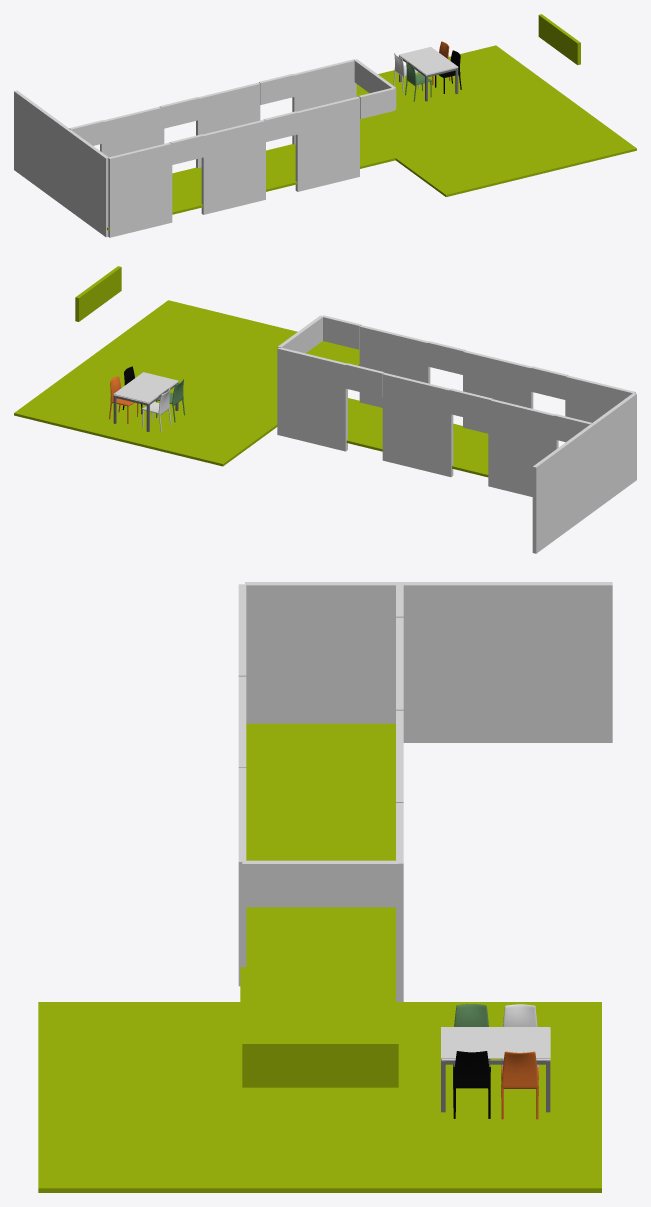
Rendered from chao.fbx.
The picture shows the model from 3 angles, top to bottom: view 1: azimuth 30°, elevation 25°; view 2: azimuth 150°, elevation 25°; view 3: azimuth 270°, elevation 25°; orthographic projection. The views are drawn at different scales.
Parts seen in each view (by area): view 1: Cube.001, Cube.002, Cube.007, Cube.008, Cube.009, Cube.016, Cube.005, Cube.006, Cube.004, Cube.003, mesa-vidrio, Cube.010 (+7 smaller); view 2: Cube.001, Cube.002, Cube.005, Cube.006, Cube.004, Cube.009, Cube.008, Cube.016, Cube.007, Cube.003, Cube.013, mesa-vidrio (+6 smaller); view 3: Cube.001, Cube.002, Cube.016, Cube.018, Cube.003, mesa-vidrio, Cube.006, Cube.019, Cube.020, Cube.009.
Boxes of the visible parts, <box> form: Cube.001: <box>356,45,636,196</box>; Cube.002: <box>14,90,108,237</box>; Cube.007: <box>108,142,172,237</box>; Cube.008: <box>201,119,265,214</box>; Cube.009: <box>295,96,359,191</box>; Cube.016: <box>107,132,395,230</box>; Cube.005: <box>196,82,260,168</box>; Cube.006: <box>292,59,356,144</box>; Cube.004: <box>100,106,164,157</box>; Cube.003: <box>538,14,580,65</box>; mesa-vidrio: <box>399,47,457,74</box>; Cube.010: <box>358,88,394,118</box>; Cube.001: <box>14,300,359,466</box>; Cube.002: <box>532,393,636,553</box>; Cube.005: <box>382,373,453,476</box>; Cube.006: <box>277,347,347,451</box>; Cube.004: <box>488,399,558,496</box>; Cube.009: <box>359,325,430,407</box>; Cube.008: <box>463,350,533,433</box>; Cube.016: <box>346,398,488,477</box>; Cube.007: <box>565,375,635,422</box>; Cube.003: <box>75,266,121,321</box>; Cube.013: <box>449,388,492,423</box>; mesa-vidrio: <box>113,372,178,402</box>; Cube.001: <box>38,1002,601,1192</box>; Cube.002: <box>245,582,612,742</box>; Cube.016: <box>240,723,399,1002</box>; Cube.018: <box>242,860,398,907</box>; Cube.003: <box>242,1041,398,1087</box>; mesa-vidrio: <box>441,1027,550,1058</box>; Cube.006: <box>396,803,403,1001</box>; Cube.019: <box>453,1051,490,1088</box>; Cube.020: <box>501,1051,538,1088</box>; Cube.009: <box>238,768,246,986</box>.
Size of the model in its own units: 1843 by 291 by 956.
